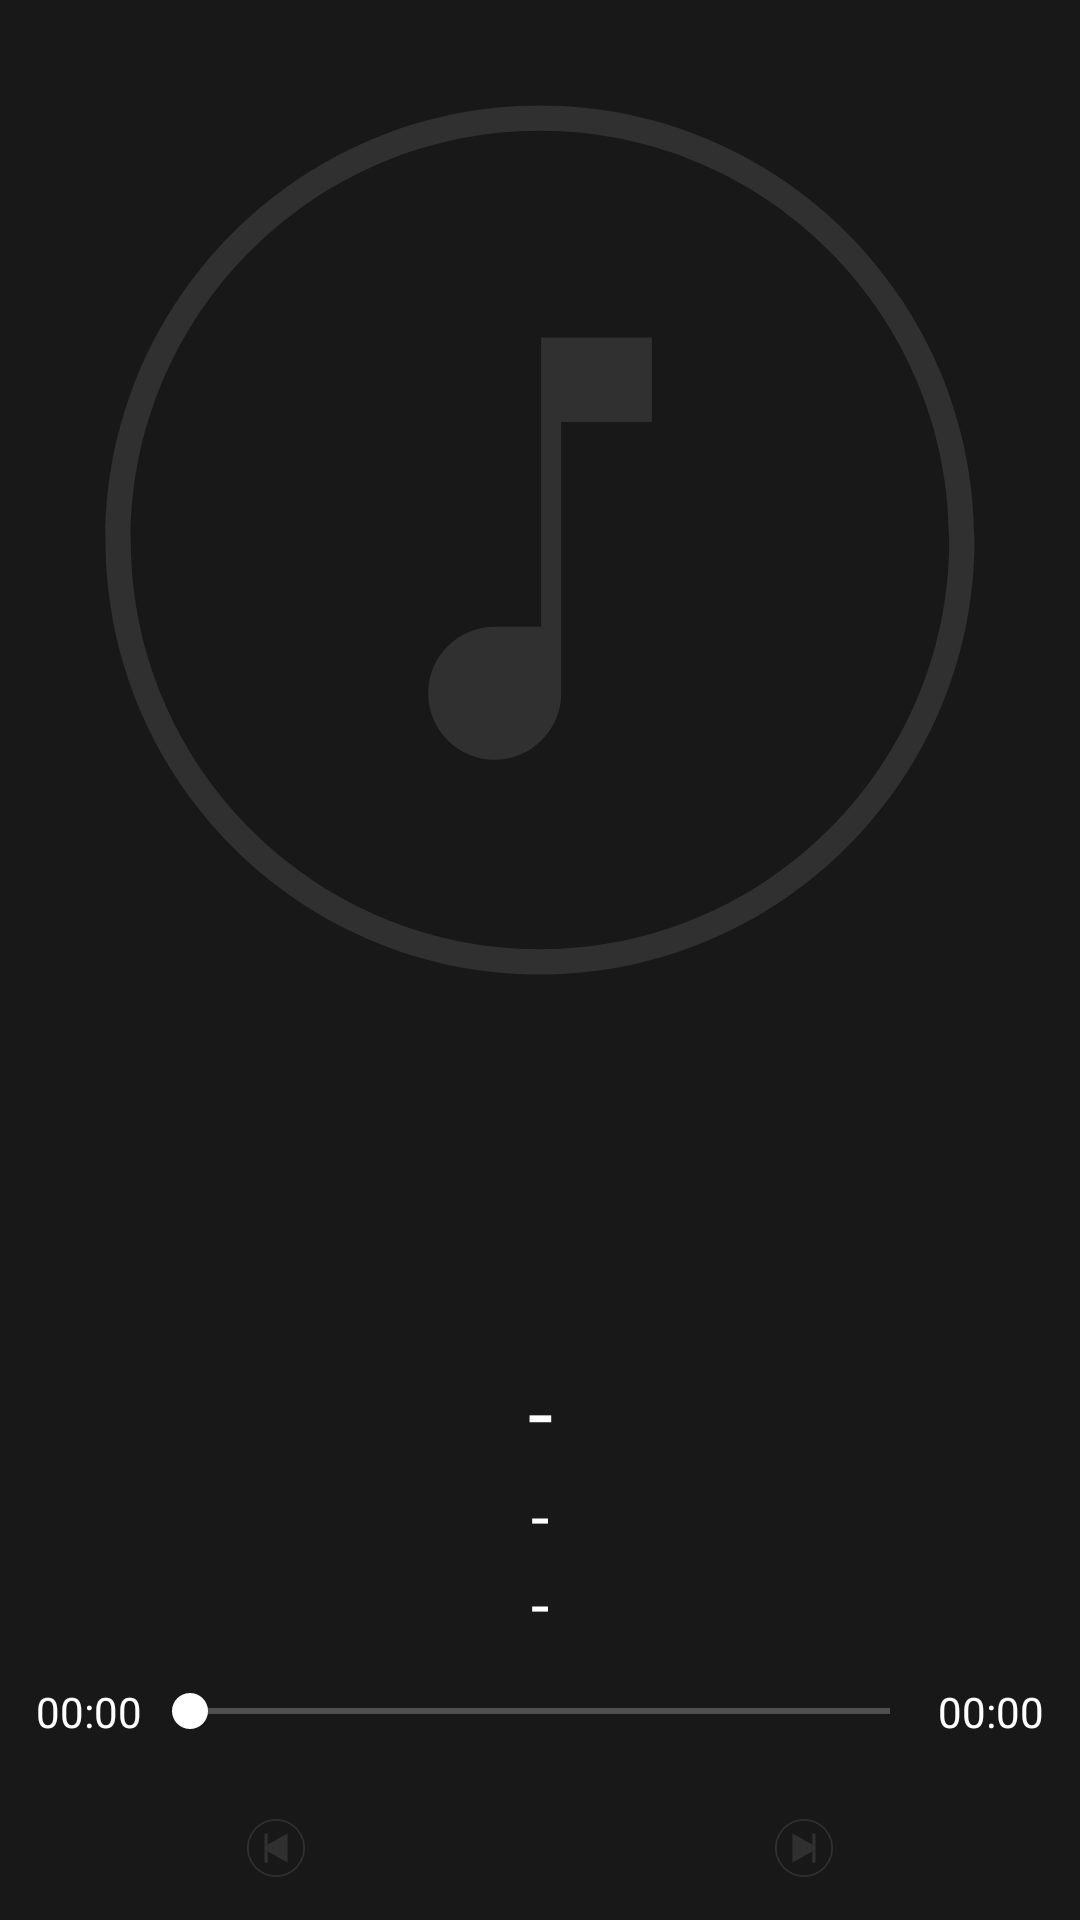

Icons on this 1080px x 1920px Android screen, each with the point to tap as (x=x, y=y):
next: (x=804, y=1848)
prev: (x=276, y=1848)
